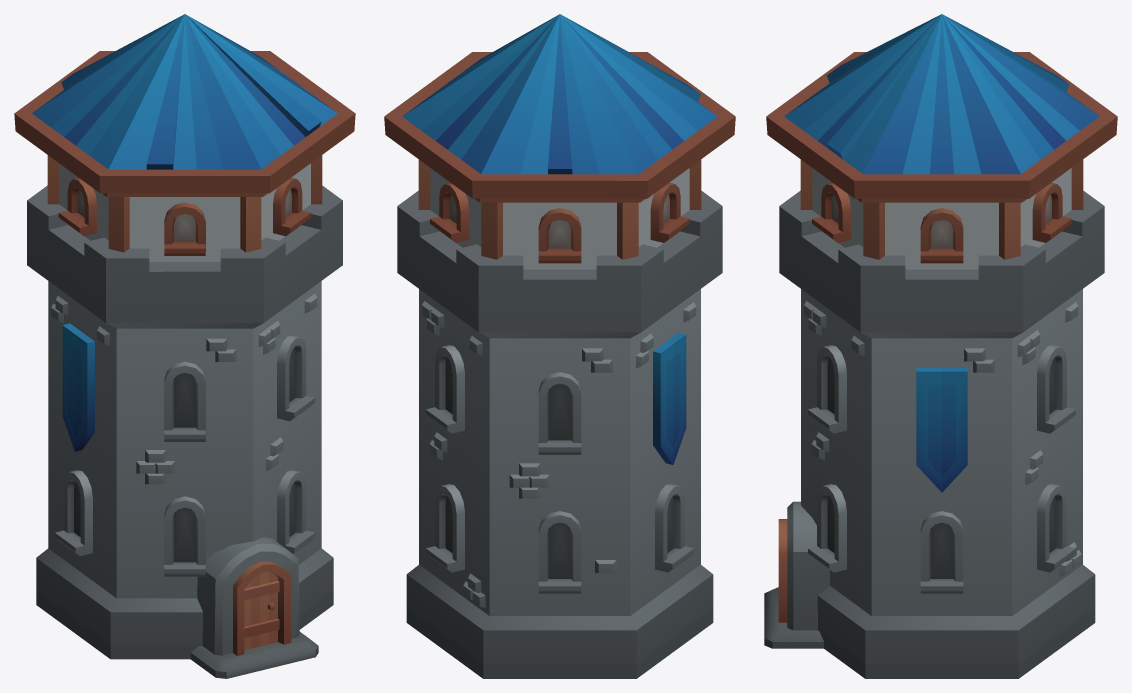
Rendered from H_tower_A_blue.glb.
3 views of the same model, side by side, from view 1: azimuth 30°, elevation 25°; view 2: azimuth 150°, elevation 25°; view 3: azimuth 270°, elevation 25° (orthographic). The views are drawn at different scales.
Parts seen in each view (by area): view 1: building_tower_A_blue, building_tower_A_top_blue; view 2: building_tower_A_blue, building_tower_A_top_blue; view 3: building_tower_A_blue, building_tower_A_top_blue.
Boxes of the visible parts, bbox=[...] form: building_tower_A_blue: bbox=[27, 185, 342, 678]; building_tower_A_top_blue: bbox=[14, 14, 355, 261]; building_tower_A_blue: bbox=[397, 190, 722, 678]; building_tower_A_top_blue: bbox=[384, 14, 735, 269]; building_tower_A_blue: bbox=[764, 190, 1104, 678]; building_tower_A_top_blue: bbox=[766, 14, 1117, 269].
Size of the model in its own units: 0.9933 by 2.19 by 1.15.
